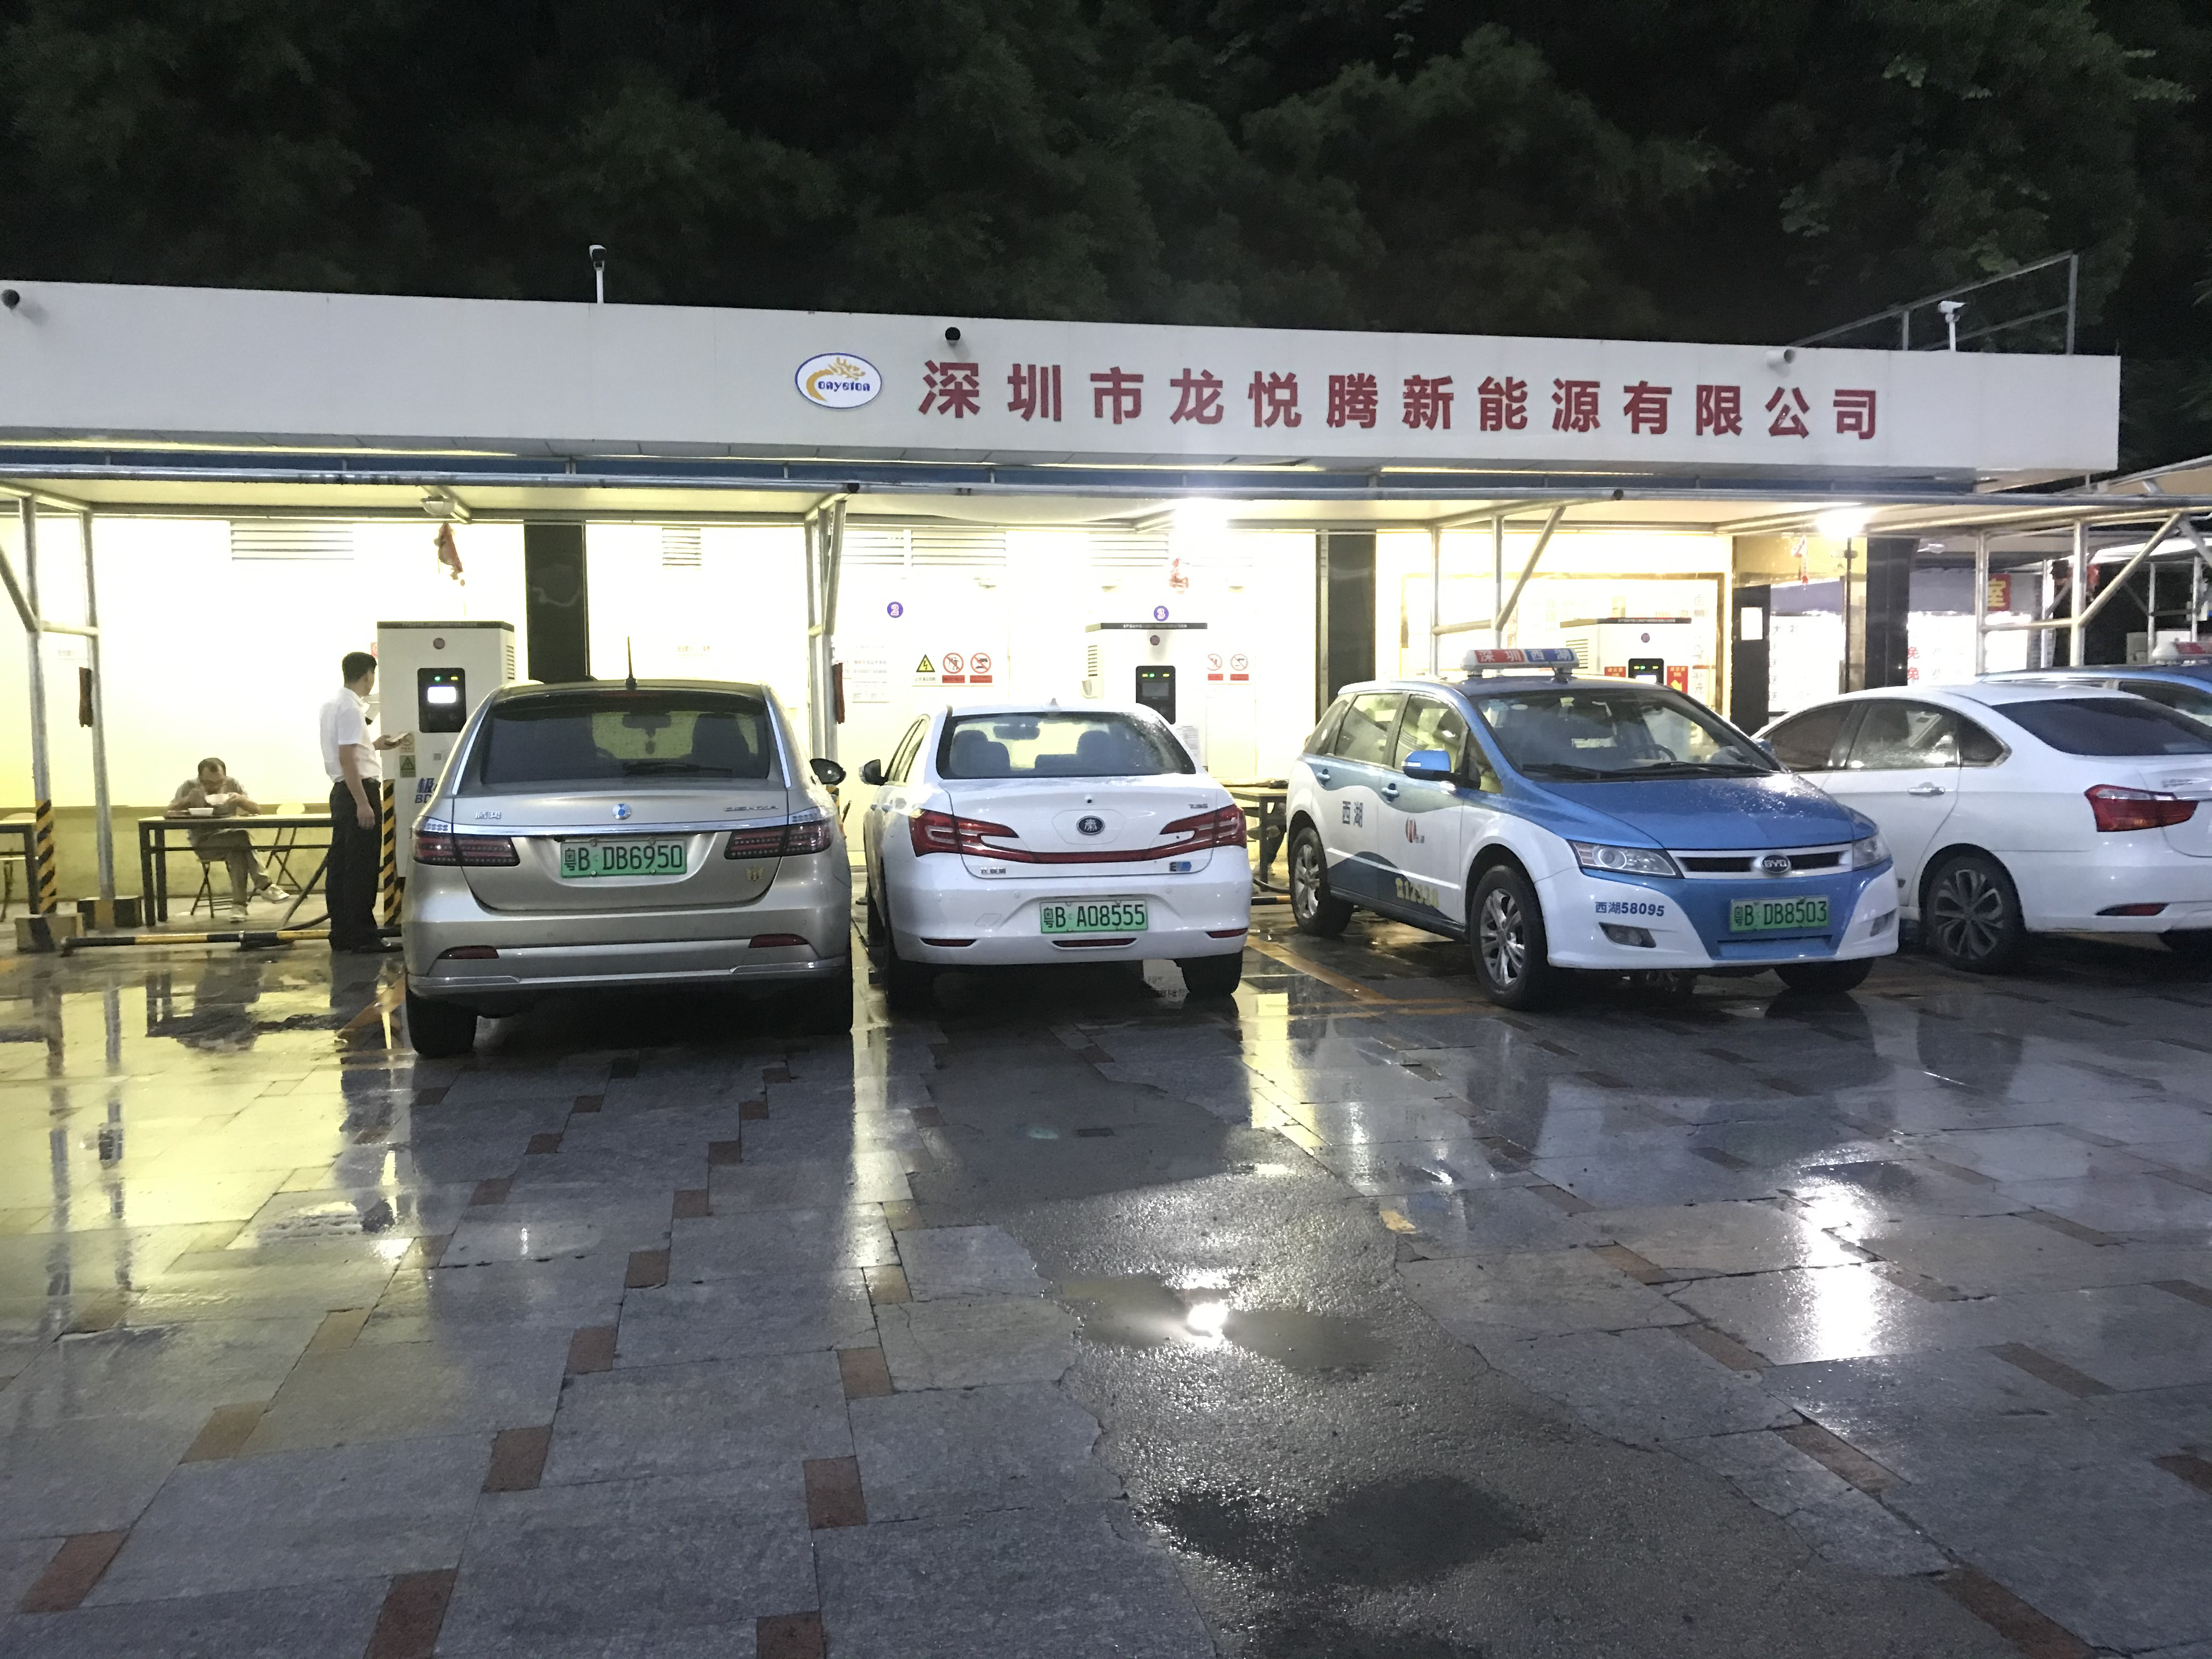greenPlate: (559, 833, 693, 875), (1731, 894, 1832, 932), (1040, 899, 1151, 932)
